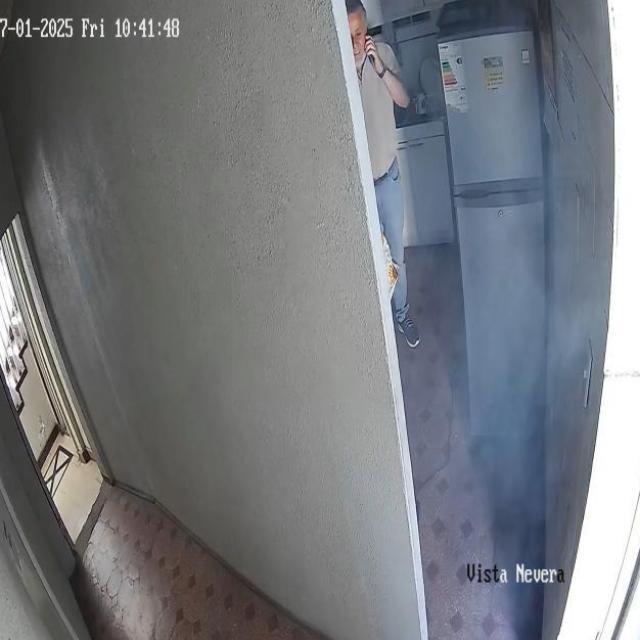fire: (398, 0, 602, 555)
